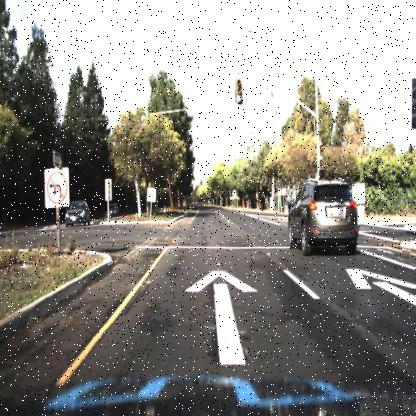car: (288, 178, 360, 257), (64, 202, 91, 228), (107, 202, 121, 220), (107, 201, 119, 217)
trafficLight-Green: (316, 136, 326, 166), (235, 76, 243, 107), (235, 76, 243, 106), (318, 144, 324, 161)
